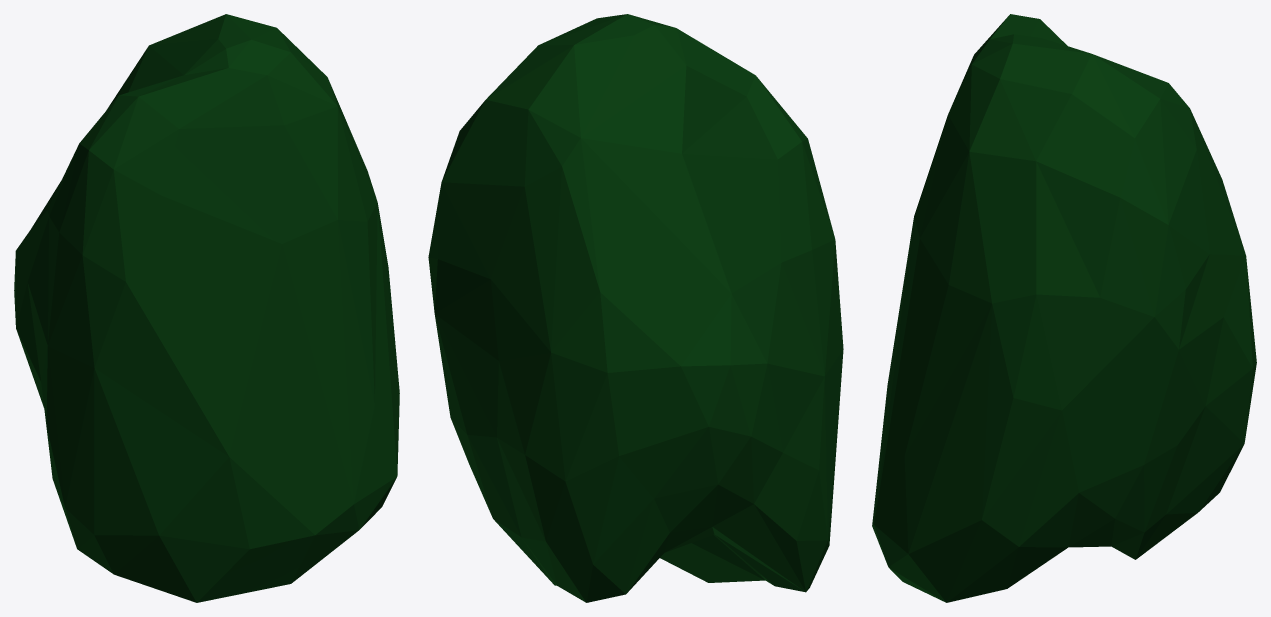
File: lp_tree6_Icosphere_009.obj
The picture shows the model from 3 angles, left to right: view 1: azimuth 30°, elevation 25°; view 2: azimuth 150°, elevation 25°; view 3: azimuth 270°, elevation 25°; orthographic projection. The views are drawn at different scales.
Visible parts, largest first — view 1: lp_tree6_Icosphere_009; view 2: lp_tree6_Icosphere_009; view 3: lp_tree6_Icosphere_009.
Boxes of the visible parts, bbox=[...] form: lp_tree6_Icosphere_009: bbox=[14, 14, 399, 602]; lp_tree6_Icosphere_009: bbox=[428, 14, 843, 602]; lp_tree6_Icosphere_009: bbox=[872, 14, 1256, 602].
Size of the model in its own units: 8.1 by 12.28 by 7.6.
